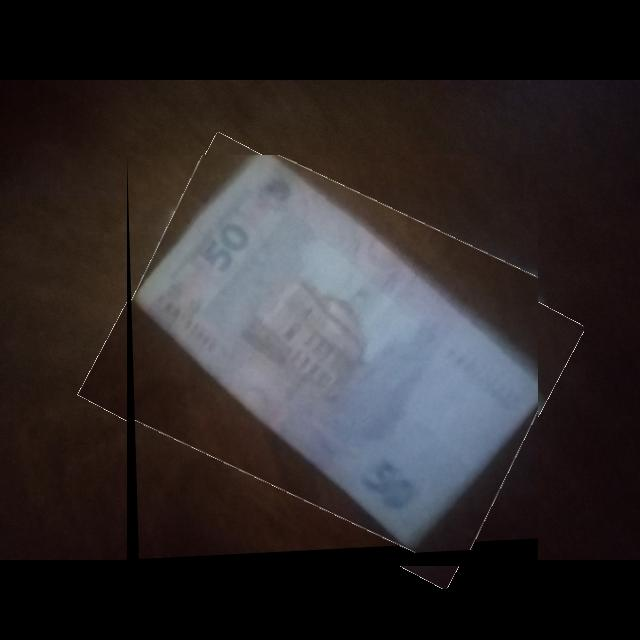50uah: (131, 155, 539, 556)
